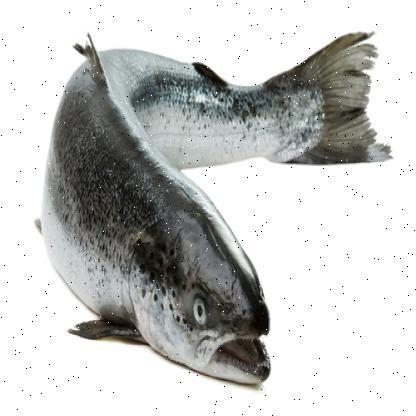fish: (29, 27, 389, 380)
